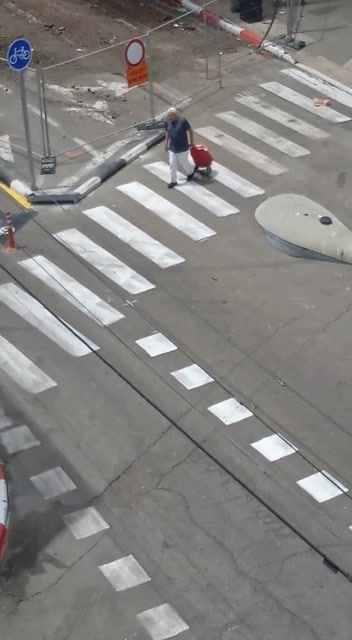crosswalk: (49, 88, 303, 324)
person: (153, 96, 215, 210)
